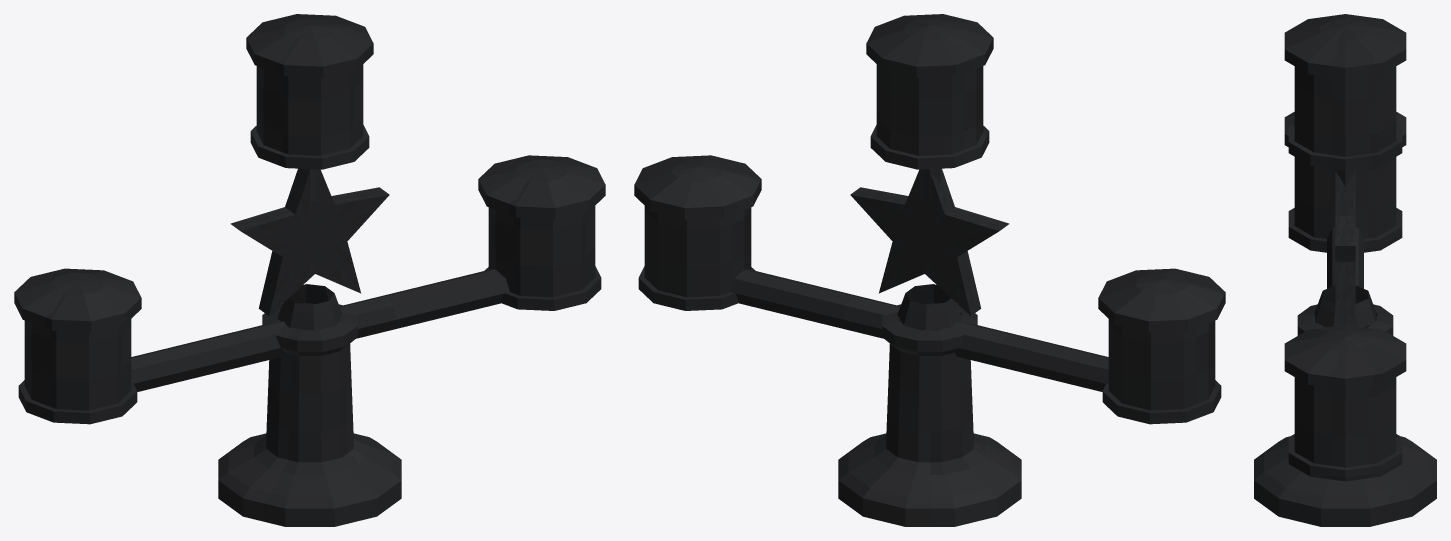
Rendered from decolight_lahollywoodstar.obj.
3 views of the same model, side by side, from view 1: azimuth 30°, elevation 25°; view 2: azimuth 150°, elevation 25°; view 3: azimuth 270°, elevation 25° (orthographic).
Visible parts, largest first — view 1: decolight_lahollywoodstar; view 2: decolight_lahollywoodstar; view 3: decolight_lahollywoodstar.
Part boxes in pixels (left/top/right/bottom): decolight_lahollywoodstar: left=14, top=14, right=605, bottom=526; decolight_lahollywoodstar: left=634, top=14, right=1225, bottom=526; decolight_lahollywoodstar: left=1254, top=14, right=1436, bottom=526.
Bounding box in the file's own units: 2.01 × 1.55 × 0.5554.
